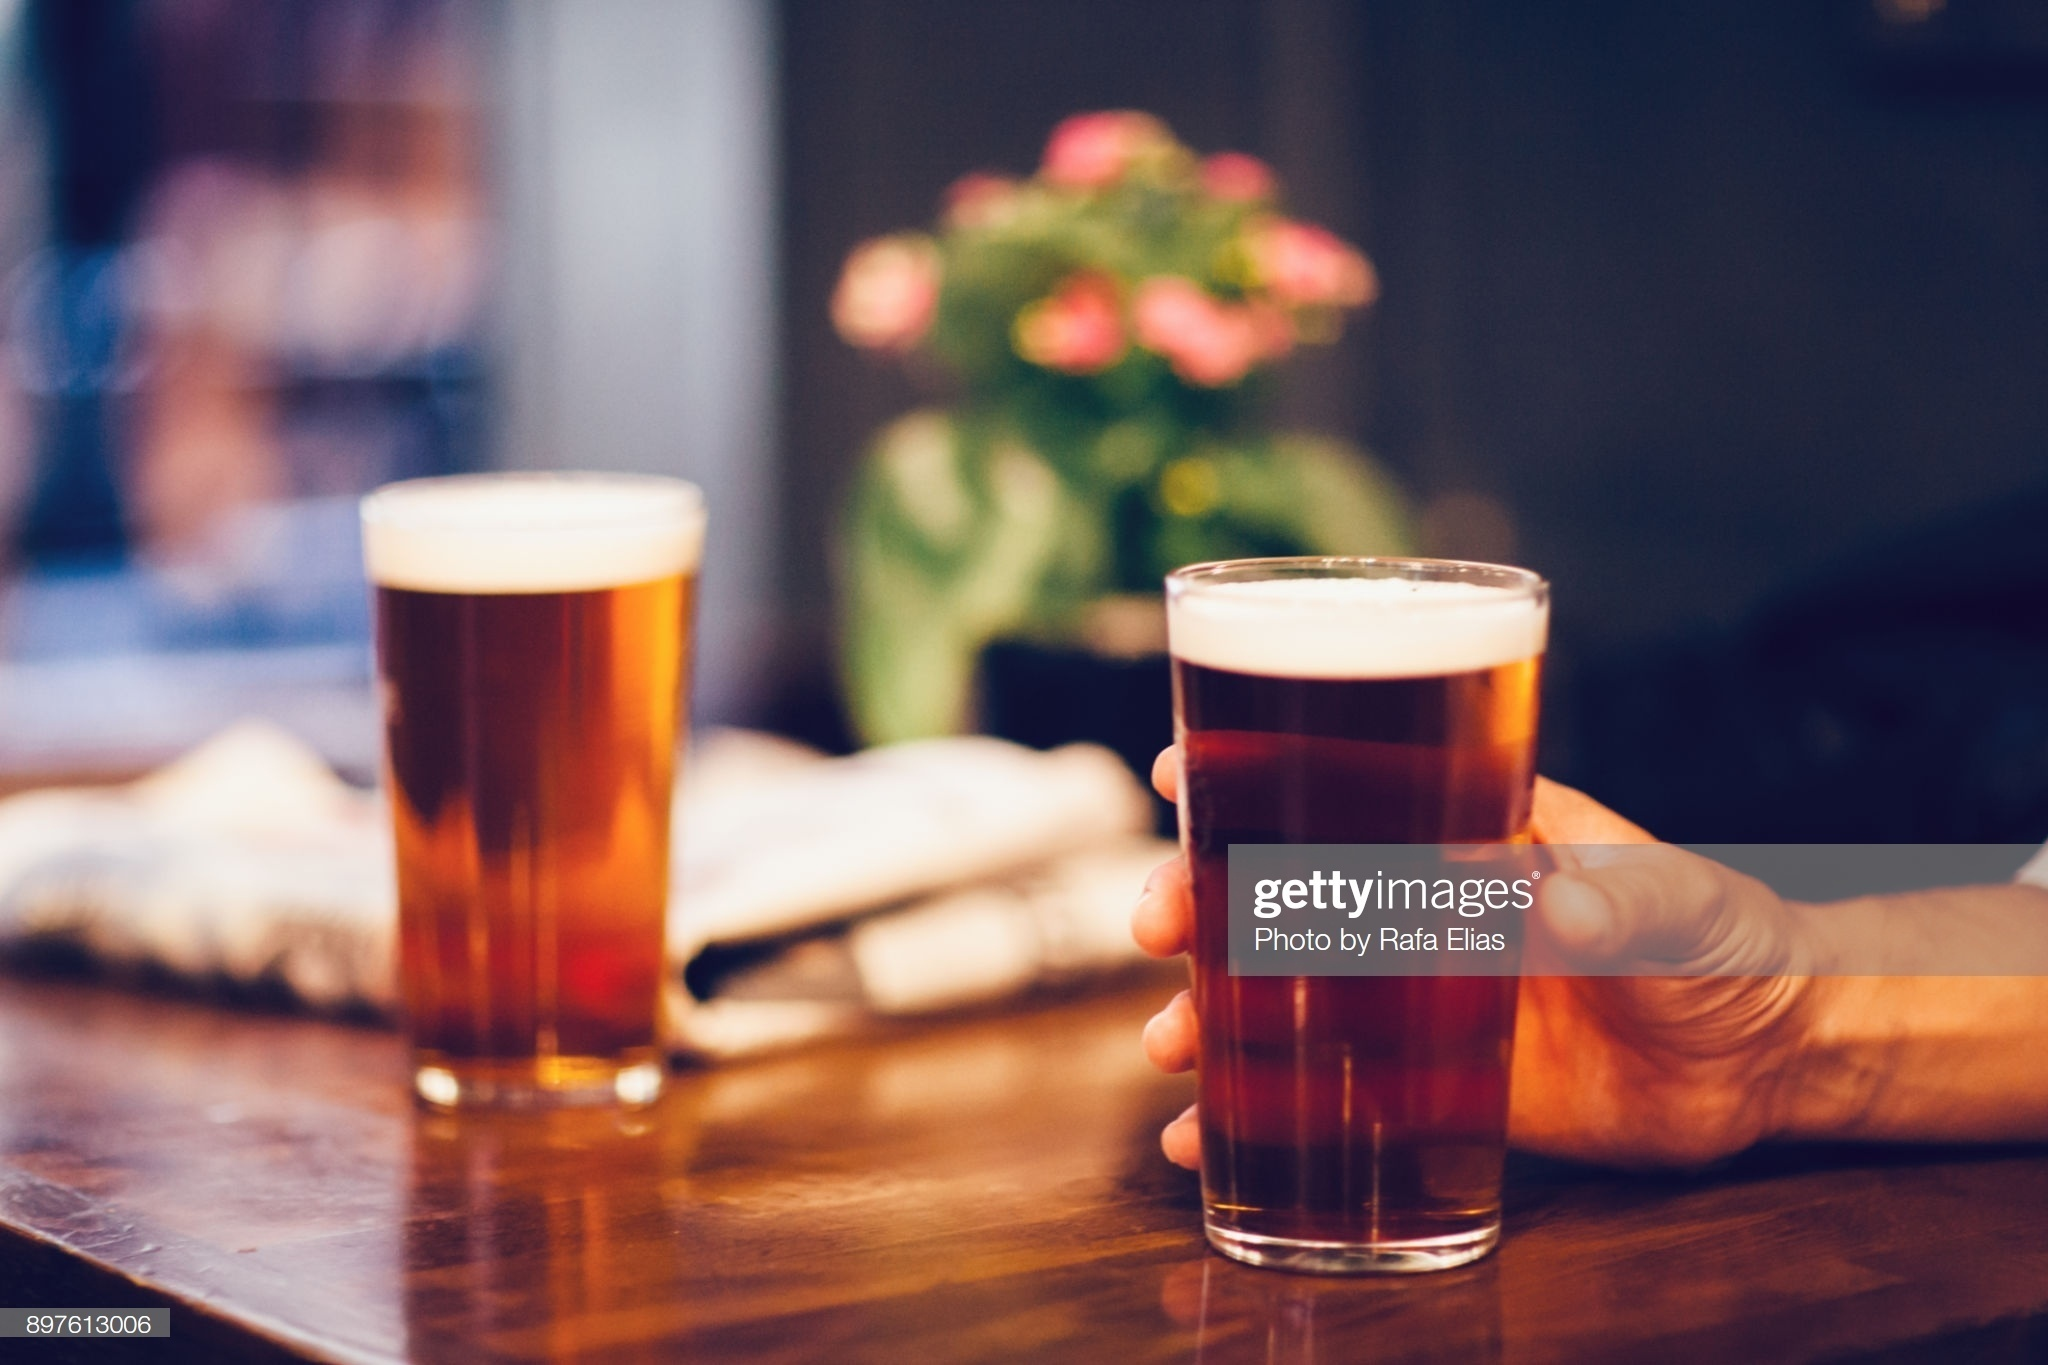whiskey: (1195, 562, 1552, 1267)
